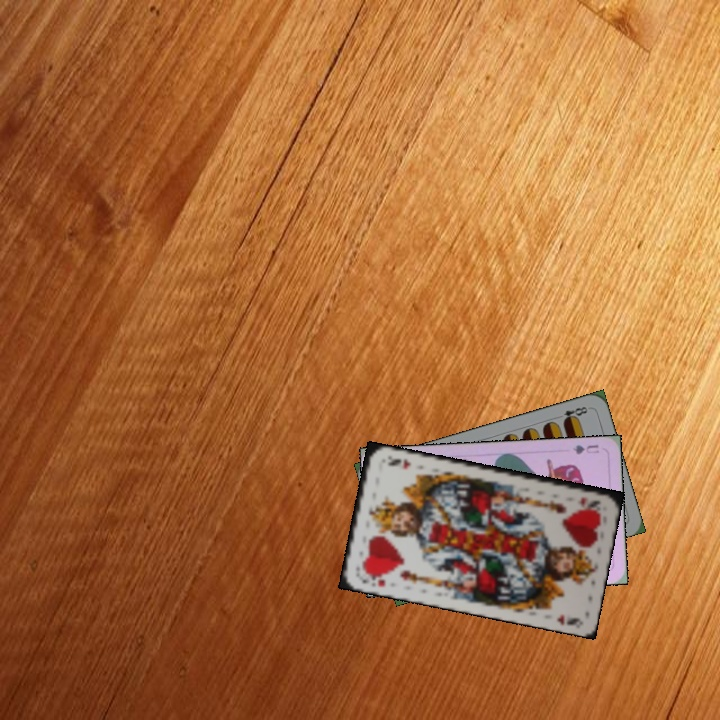E8: (559, 402, 592, 425)
GU: (569, 441, 601, 457)
HK: (356, 573, 388, 589), (575, 493, 603, 510)
